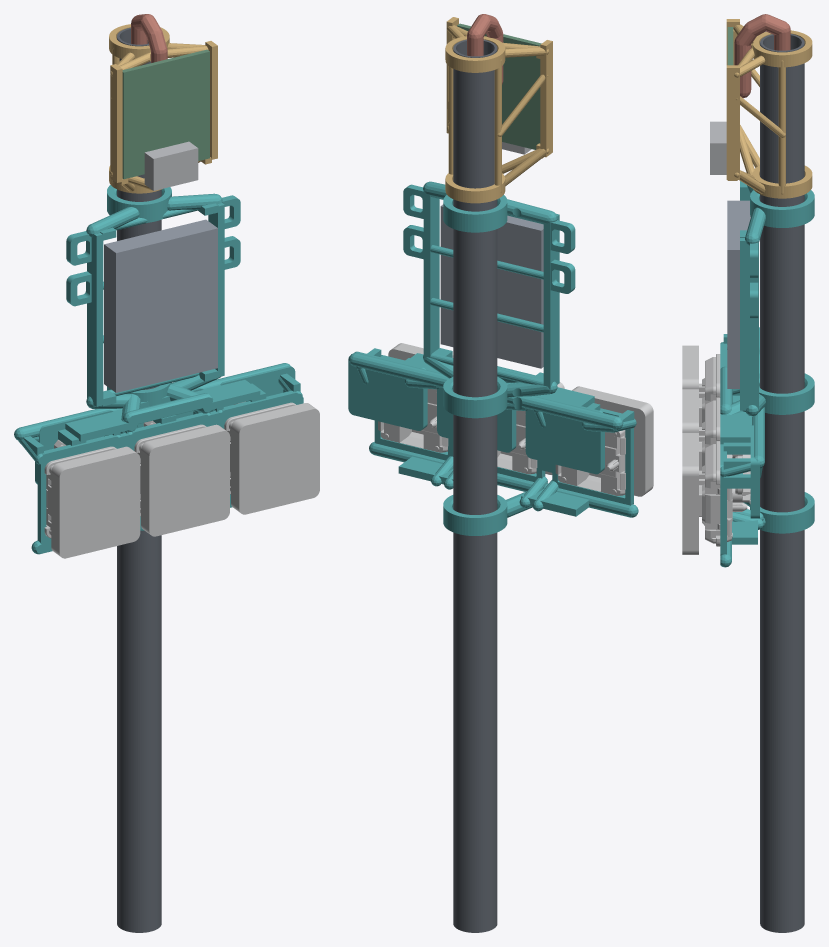
Rendered from Assembly-reference.glb.
3 renders of one model, left to right at view 1: azimuth 30°, elevation 25°; view 2: azimuth 150°, elevation 25°; view 3: azimuth 270°, elevation 25°, orthographic.
Parts seen in each view (by area): view 1: Key_Battery_Carrier, REFERENCE_rod, REFERENCE_battery, REFERENCE_key_0_cap, REFERENCE_pcb, REFERENCE_key_1_cap, REFERENCE_key_2_cap, XIAO_Rod_Holder, REFERENCE_usb, REFERENCE_provisional_wire_route, REFERENCE_key_0_switch; view 2: Key_Battery_Carrier, REFERENCE_rod, REFERENCE_battery, XIAO_Rod_Holder, REFERENCE_pcb, REFERENCE_key_0_cap, REFERENCE_key_0_switch, REFERENCE_key_2_switch, REFERENCE_key_1_switch, REFERENCE_provisional_wire_route; view 3: REFERENCE_rod, Key_Battery_Carrier, XIAO_Rod_Holder, REFERENCE_battery, REFERENCE_key_2_switch, REFERENCE_key_2_cap, REFERENCE_provisional_wire_route, REFERENCE_key_1_switch, REFERENCE_key_0_switch, REFERENCE_usb, REFERENCE_key_0_cap, REFERENCE_key_1_cap.
Part boxes in pixels (left/top/right/bottom): Key_Battery_Carrier: left=14, top=185, right=303, bottom=554; REFERENCE_rod: left=117, top=27, right=161, bottom=932; REFERENCE_battery: left=104, top=219, right=217, bottom=392; REFERENCE_key_0_cap: left=51, top=446, right=140, bottom=558; REFERENCE_pcb: left=122, top=49, right=209, bottom=179; REFERENCE_key_1_cap: left=141, top=424, right=229, bottom=536; REFERENCE_key_2_cap: left=231, top=403, right=319, bottom=514; XIAO_Rod_Holder: left=109, top=24, right=217, bottom=193; REFERENCE_usb: left=144, top=141, right=198, bottom=190; REFERENCE_provisional_wire_route: left=131, top=14, right=167, bottom=62; REFERENCE_key_0_switch: left=44, top=446, right=116, bottom=538; Key_Battery_Carrier: left=348, top=181, right=638, bottom=535; REFERENCE_rod: left=453, top=39, right=497, bottom=932; REFERENCE_battery: left=440, top=204, right=543, bottom=368; XIAO_Rod_Holder: left=445, top=17, right=552, bottom=203; REFERENCE_pcb: left=457, top=23, right=541, bottom=149; REFERENCE_key_0_cap: left=572, top=386, right=653, bottom=496; REFERENCE_key_0_switch: left=555, top=430, right=625, bottom=495; REFERENCE_key_2_switch: left=378, top=389, right=448, bottom=452; REFERENCE_key_1_switch: left=497, top=410, right=537, bottom=474; REFERENCE_provisional_wire_route: left=467, top=14, right=503, bottom=84; REFERENCE_rod: left=760, top=34, right=804, bottom=932; Key_Battery_Carrier: left=720, top=181, right=814, bottom=567; XIAO_Rod_Holder: left=726, top=19, right=812, bottom=198; REFERENCE_battery: left=727, top=200, right=750, bottom=388; REFERENCE_key_2_switch: left=699, top=441, right=747, bottom=546; REFERENCE_key_2_cap: left=682, top=432, right=698, bottom=554; REFERENCE_provisional_wire_route: left=734, top=14, right=790, bottom=98; REFERENCE_key_1_switch: left=699, top=397, right=741, bottom=470; REFERENCE_key_0_switch: left=699, top=354, right=720, bottom=426; REFERENCE_usb: left=710, top=121, right=726, bottom=174; REFERENCE_key_0_cap: left=682, top=345, right=698, bottom=388; REFERENCE_key_1_cap: left=682, top=389, right=698, bottom=432.
Size of the model in its own units: 56.95 by 180 by 23.77.
